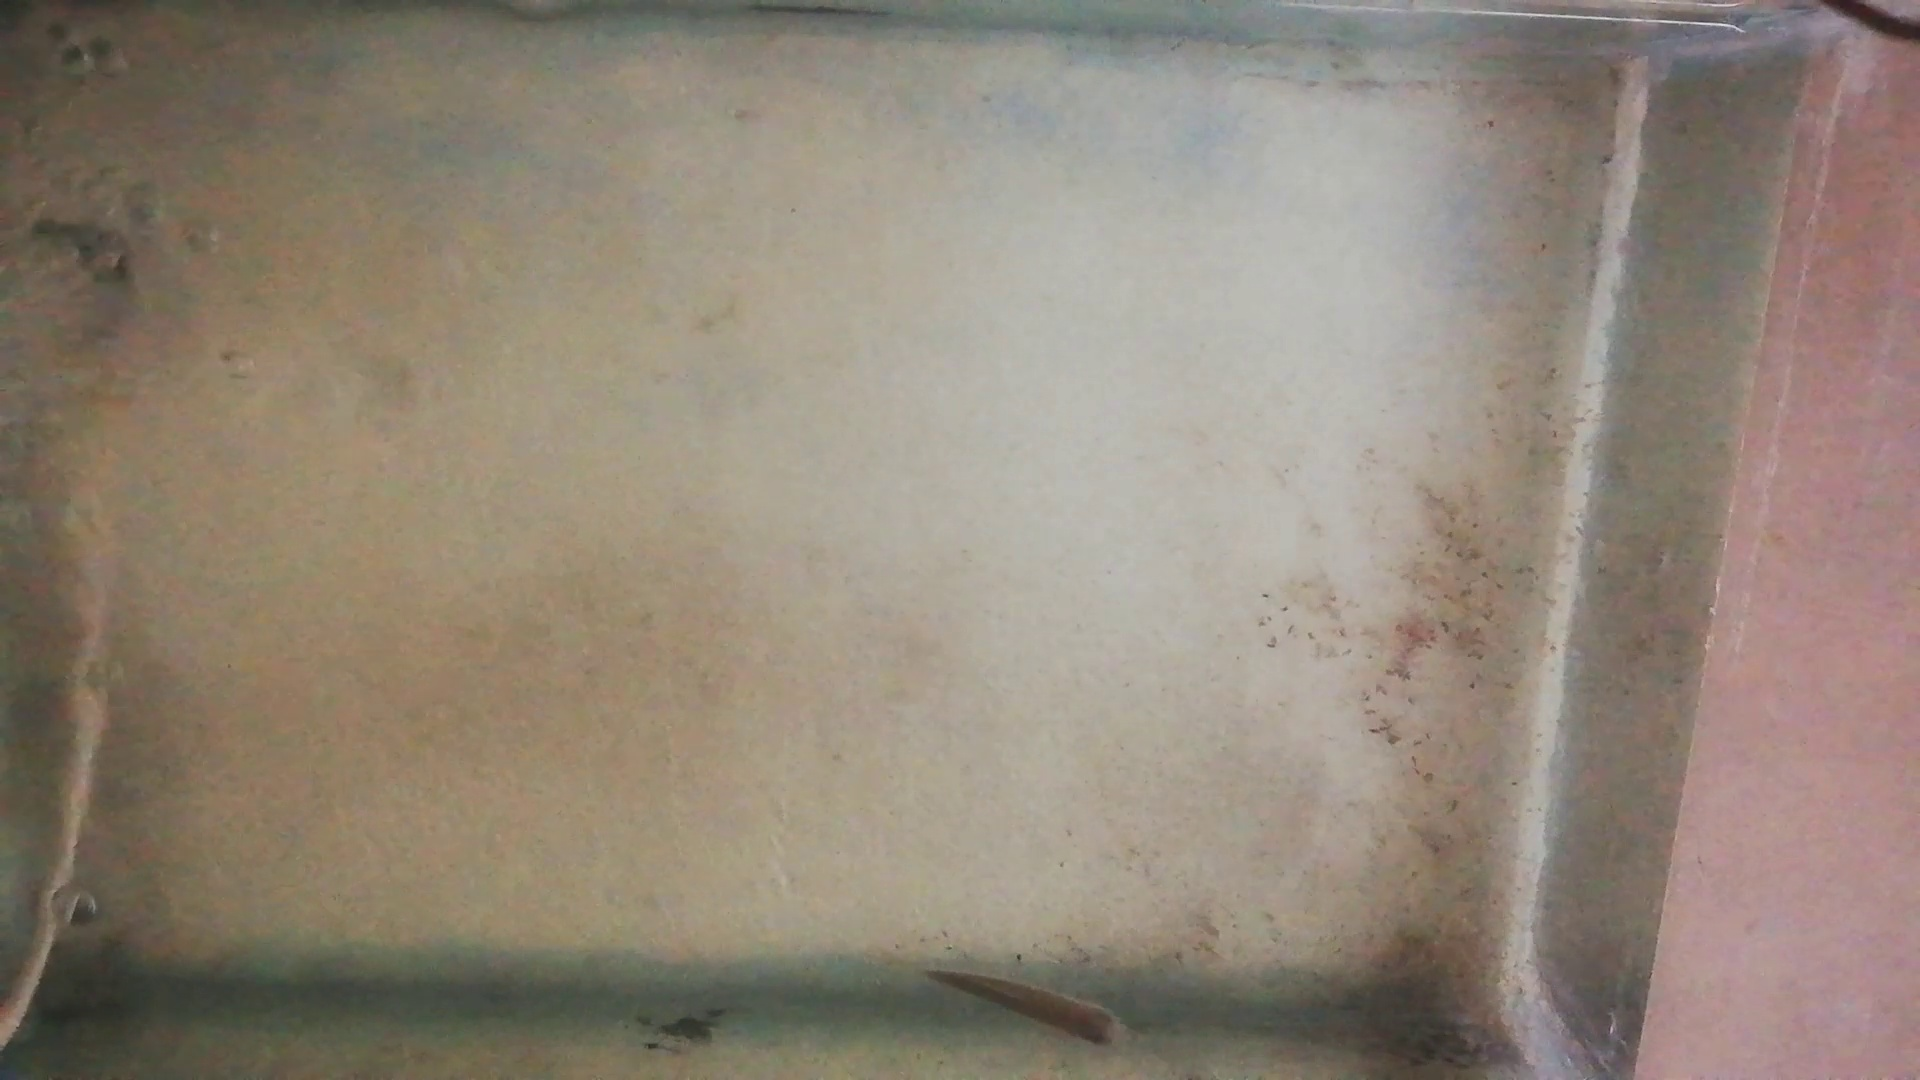fish: (924, 967, 1127, 1044)
